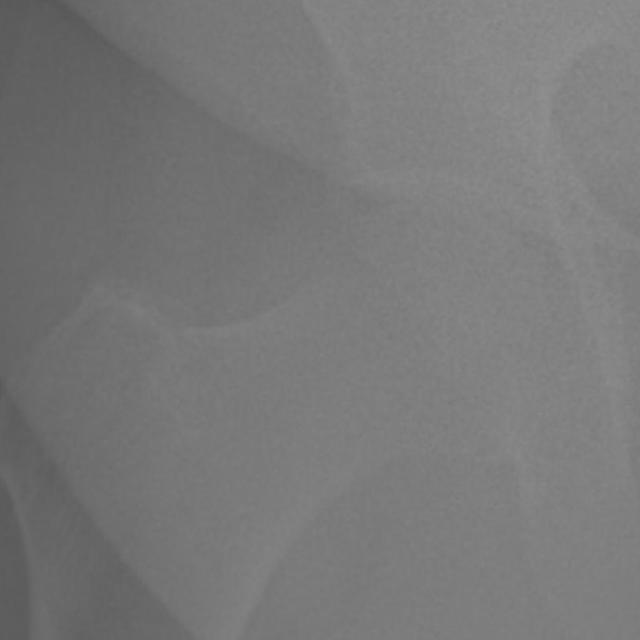Fitted_femural_head: (280, 200, 432, 280)
